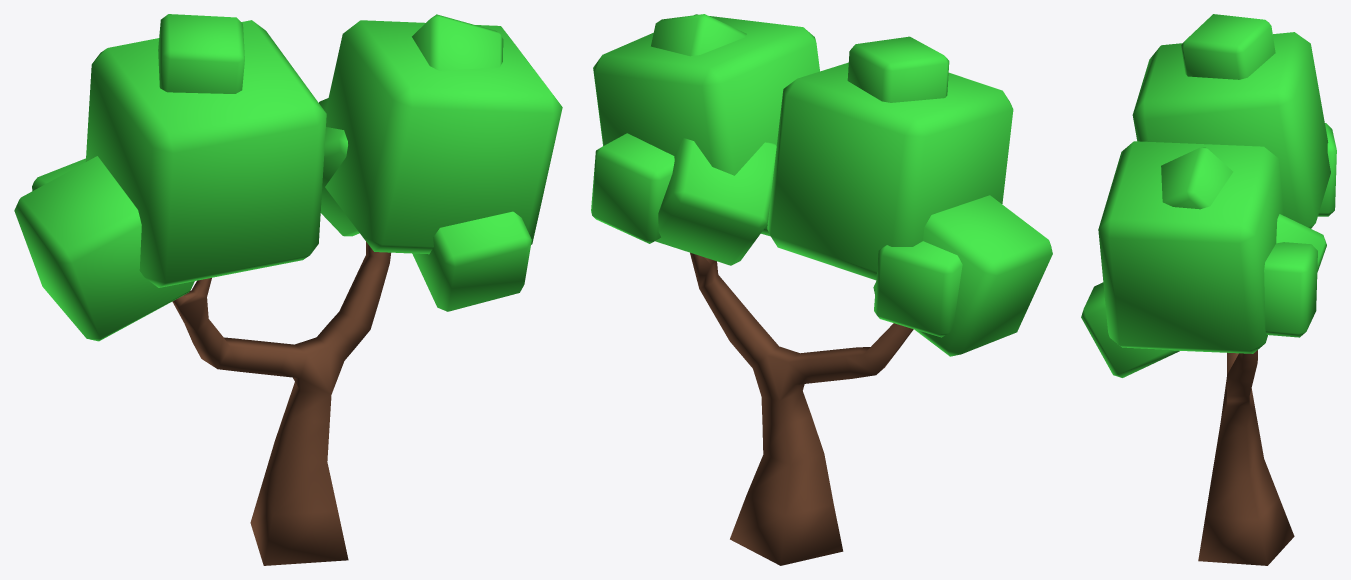
Rendered from tree_3.fbx.
The picture shows the model from 3 angles, left to right: view 1: azimuth 30°, elevation 25°; view 2: azimuth 150°, elevation 25°; view 3: azimuth 270°, elevation 25°; orthographic projection. The views are drawn at different scales.
Parts seen in each view (by area): view 1: trunk; view 2: trunk; view 3: trunk.
Part boxes in pixels (x1=…): trunk: x1=14, y1=14, x2=562, y2=565; trunk: x1=591, y1=14, x2=1052, y2=565; trunk: x1=1081, y1=14, x2=1336, y2=565.
Bounding box in the file's own units: 1347 × 1511 × 728.
